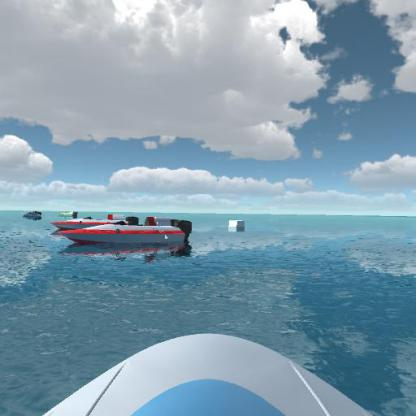usv0: (58, 207, 82, 220)
usv1: (21, 206, 44, 221)
usv3: (63, 217, 198, 256), (50, 211, 150, 241)
